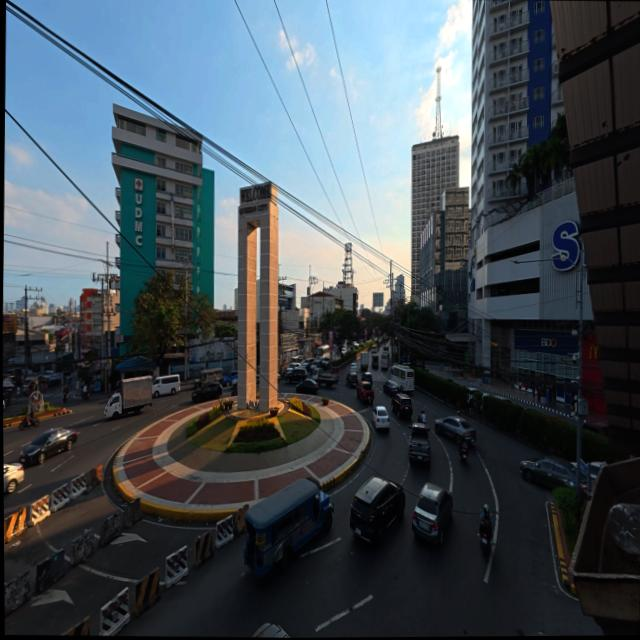car: (346, 479, 405, 554), (410, 479, 455, 546), (432, 415, 474, 445), (3, 464, 23, 495), (373, 405, 392, 432)
trucks: (407, 426, 434, 463)
vans: (152, 375, 182, 397)
